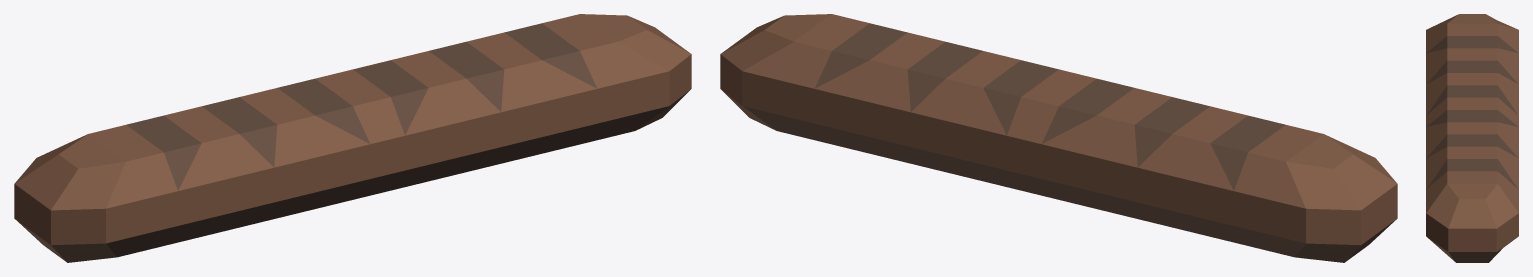
File: TB_Prop_Baguette.FBX
The picture shows the model from 3 angles, left to right: view 1: azimuth 30°, elevation 25°; view 2: azimuth 150°, elevation 25°; view 3: azimuth 270°, elevation 25°; orthographic projection. The views are drawn at different scales.
Visible parts, largest first — view 1: TB_Prop_Baguette; view 2: TB_Prop_Baguette; view 3: TB_Prop_Baguette.
Part boxes in pixels (x1,y1,x2,y2): TB_Prop_Baguette: [14, 14, 691, 262]; TB_Prop_Baguette: [720, 14, 1397, 262]; TB_Prop_Baguette: [1426, 14, 1518, 262].
Size of the model in its own units: 0.7446 by 0.1039 by 0.1398.
